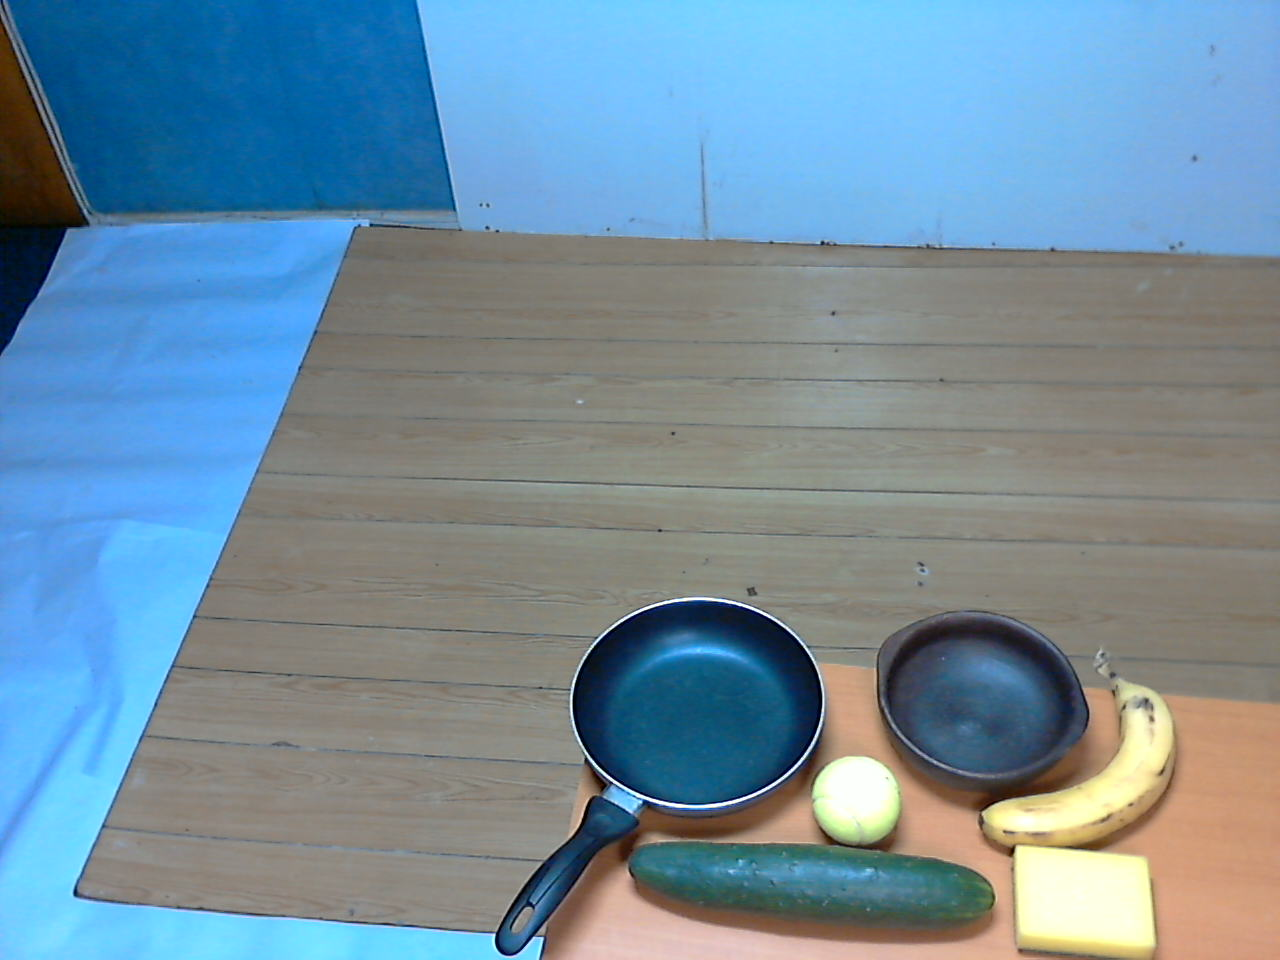esponja: (993, 835, 1174, 960)
pelota: (801, 750, 911, 862)
pepino: (611, 823, 1004, 942)
platano: (954, 641, 1192, 859)
sarten: (454, 576, 842, 960)
